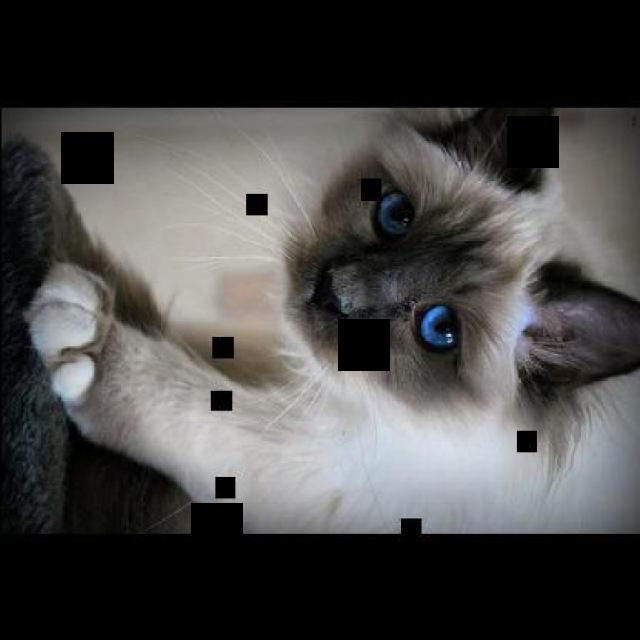unauthorized: (0, 106, 638, 535)
